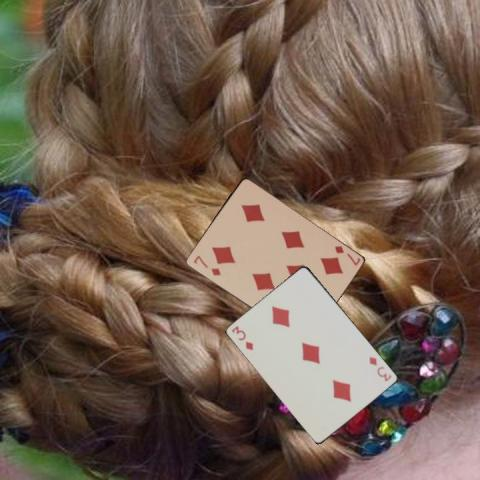3d: (366, 353, 393, 383), (228, 323, 255, 351)
7d: (191, 253, 222, 277), (332, 242, 362, 266)
